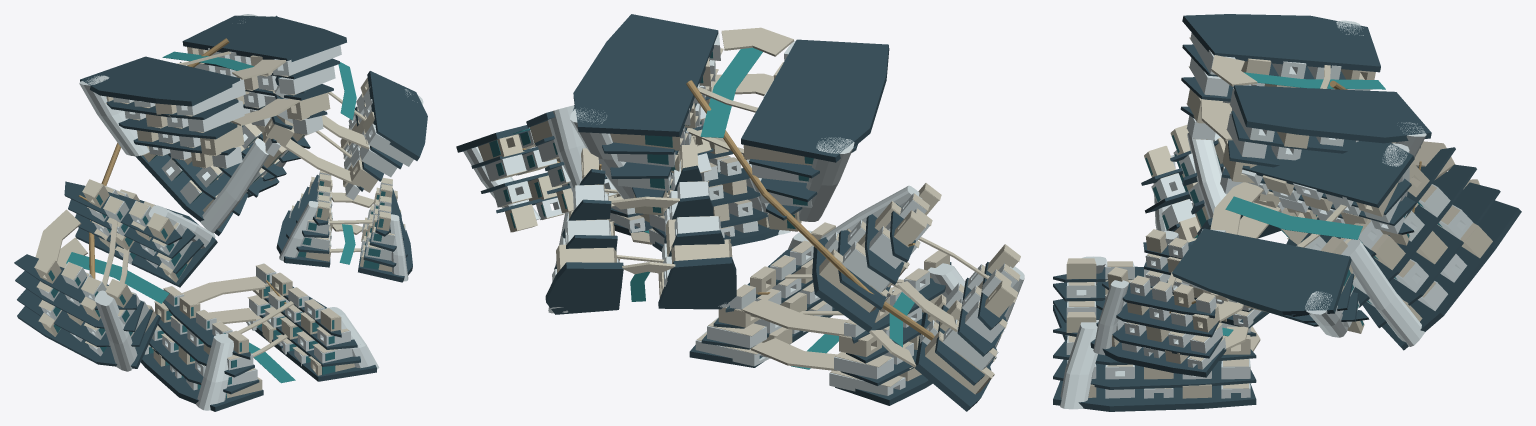
3 views of the same model, side by side, from view 1: azimuth 30°, elevation 25°; view 2: azimuth 150°, elevation 25°; view 3: azimuth 270°, elevation 25° (orthographic). The views are drawn at different scales.
Visible parts, largest first — view 1: B_HIGH_INVERTED_city_ground_0_-1, B_HIGH_INVERTED_city_ground_0_1, B_EAST_REVERSED_city_ground_0_1, B_REAR_VERTICAL_continuous_living_buttress, B_OBLIQUE_WEST_city_ground_0_-1, B_LOW_ORIGIN_continuous_living_buttress, B_HIGH_INVERTED_continuous_living_buttress, B_OBLIQUE_WEST_continuous_living_buttress, B_REAR_VERTICAL_city_ground_0_-1, B_LOW_ORIGIN_city_ground_0_-1, B_OBLIQUE_WEST_city_ground_1_-1, B_OBLIQUE_WEST_city_ground_0_1 (+52 smaller); view 2: B_HIGH_INVERTED_city_ground_0_-1, B_HIGH_INVERTED_city_ground_0_1, B_REAR_VERTICAL_city_ground_0_1, B_REAR_VERTICAL_city_ground_0_-1, B_ASYMMETRIC_TRANSFER, B_HIGH_INVERTED_continuous_living_buttress, B_HIGH_INVERTED_water_garden, B_LOW_ORIGIN_rear_ground_return.002, B_EAST_REVERSED_continuous_living_buttress, B_OBLIQUE_WEST_city_ground_0_1, B_OBLIQUE_WEST_city_ground_0_-1, B_HIGH_INVERTED_continuous_living_buttress.001 (+57 smaller); view 3: B_EAST_REVERSED_city_ground_0_1, B_HIGH_INVERTED_city_ground_0_1, B_HIGH_INVERTED_city_ground_0_-1, B_EAST_REVERSED_city_ground_0_-1, B_REAR_VERTICAL_city_ground_0_1, B_REAR_VERTICAL_continuous_living_buttress.001, B_REAR_VERTICAL_city_ground_1_1, B_LOW_ORIGIN_city_ground_0_1, B_REAR_VERTICAL_city_ground_2_1, B_LOW_ORIGIN_continuous_living_buttress.001, B_EAST_REVERSED_water_garden, B_LOW_ORIGIN_city_ground_1_1 (+44 smaller).
Boxes of the visible parts, x1=… form: B_HIGH_INVERTED_city_ground_0_-1: x1=80, y1=56, x2=239, y2=106; B_HIGH_INVERTED_city_ground_0_1: x1=182, y1=15, x2=346, y2=61; B_EAST_REVERSED_city_ground_0_1: x1=367, y1=71, x2=427, y2=160; B_REAR_VERTICAL_continuous_living_buttress: x1=200, y1=138, x2=269, y2=233; B_OBLIQUE_WEST_city_ground_0_-1: x1=17, y1=306, x2=160, y2=368; B_LOW_ORIGIN_continuous_living_buttress: x1=196, y1=333, x2=233, y2=410; B_HIGH_INVERTED_continuous_living_buttress: x1=79, y1=75, x2=149, y2=156; B_OBLIQUE_WEST_continuous_living_buttress: x1=94, y1=290, x2=137, y2=371; B_REAR_VERTICAL_city_ground_0_-1: x1=135, y1=154, x2=233, y2=235; B_LOW_ORIGIN_city_ground_0_-1: x1=141, y1=353, x2=263, y2=411; B_OBLIQUE_WEST_city_ground_1_-1: x1=17, y1=289, x2=152, y2=346; B_OBLIQUE_WEST_city_ground_0_1: x1=75, y1=199, x2=217, y2=287; B_HIGH_INVERTED_city_ground_0_-1: x1=741, y1=39, x2=889, y2=162; B_HIGH_INVERTED_city_ground_0_1: x1=573, y1=14, x2=718, y2=136; B_REAR_VERTICAL_city_ground_0_1: x1=545, y1=262, x2=623, y2=314; B_REAR_VERTICAL_city_ground_0_-1: x1=658, y1=257, x2=736, y2=309; B_ASYMMETRIC_TRANSFER: x1=686, y1=80, x2=934, y2=340; B_HIGH_INVERTED_continuous_living_buttress: x1=799, y1=137, x2=854, y2=221; B_HIGH_INVERTED_water_garden: x1=700, y1=47, x2=762, y2=137; B_LOW_ORIGIN_rear_ground_return.002: x1=741, y1=298, x2=847, y2=335; B_EAST_REVERSED_continuous_living_buttress: x1=548, y1=105, x2=585, y2=192; B_OBLIQUE_WEST_city_ground_0_1: x1=812, y1=237, x2=879, y2=332; B_OBLIQUE_WEST_city_ground_0_-1: x1=915, y1=312, x2=991, y2=411; B_HIGH_INVERTED_continuous_living_buttress.001: x1=570, y1=108, x2=634, y2=199; B_EAST_REVERSED_city_ground_0_1: x1=1172, y1=228, x2=1351, y2=314; B_HIGH_INVERTED_city_ground_0_1: x1=1234, y1=85, x2=1431, y2=143; B_HIGH_INVERTED_city_ground_0_-1: x1=1182, y1=14, x2=1380, y2=72; B_EAST_REVERSED_city_ground_0_-1: x1=1242, y1=139, x2=1414, y2=207; B_REAR_VERTICAL_city_ground_0_1: x1=1382, y1=200, x2=1521, y2=350; B_REAR_VERTICAL_continuous_living_buttress.001: x1=1341, y1=238, x2=1424, y2=346; B_REAR_VERTICAL_city_ground_1_1: x1=1362, y1=182, x2=1500, y2=328; B_LOW_ORIGIN_city_ground_0_1: x1=1053, y1=380, x2=1256, y2=411; B_REAR_VERTICAL_city_ground_2_1: x1=1353, y1=164, x2=1476, y2=307; B_LOW_ORIGIN_continuous_living_buttress.001: x1=1060, y1=320, x2=1098, y2=409; B_EAST_REVERSED_water_garden: x1=1225, y1=196, x2=1362, y2=239; B_LOW_ORIGIN_city_ground_1_1: x1=1053, y1=359, x2=1256, y2=389.
Size of the model in its own units: 5962 by 3572 by 4845.
